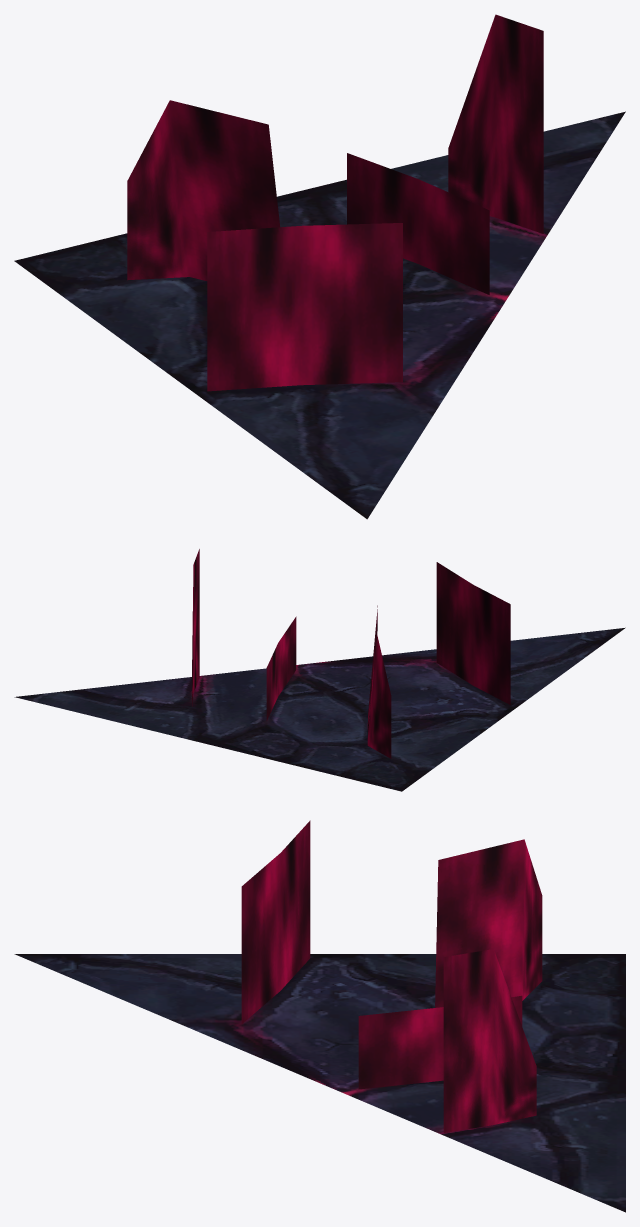
Rendered from palace_floor_diagonal_noshadow_08.fbx.
3 views of the same model, one above another, from view 1: azimuth 30°, elevation 25°; view 2: azimuth 150°, elevation 25°; view 3: azimuth 270°, elevation 25° (orthographic). The views are drawn at different scales.
Visible parts, largest first — view 1: palace_floor_diagonal_noshadow_08-0; view 2: palace_floor_diagonal_noshadow_08-0; view 3: palace_floor_diagonal_noshadow_08-0.
Part boxes in pixels (x1,y1,x2,y2): palace_floor_diagonal_noshadow_08-0: (14, 14, 625, 519); palace_floor_diagonal_noshadow_08-0: (14, 549, 625, 791); palace_floor_diagonal_noshadow_08-0: (14, 820, 625, 1212).
Bounding box in the file's own units: 4 × 1.27 × 4.
